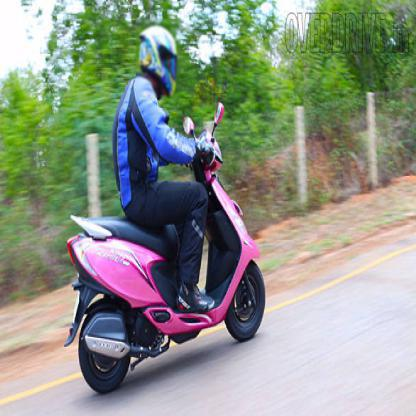Helmet: (136, 19, 186, 97)
